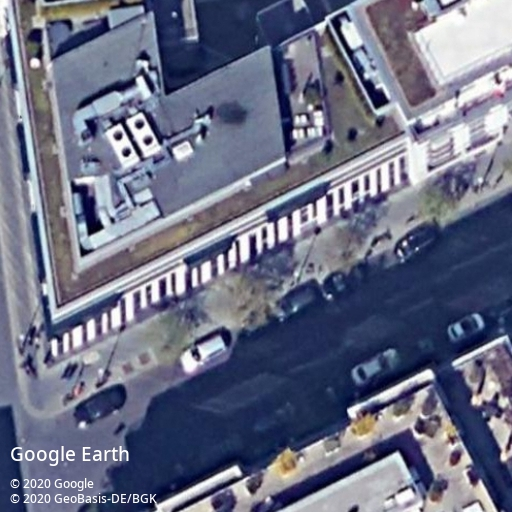Chiller: (124, 111, 164, 161), (105, 122, 141, 170)
